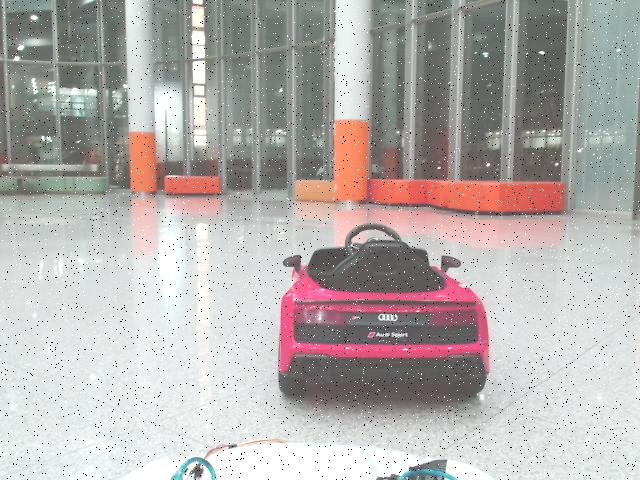car: (278, 223, 490, 397)
